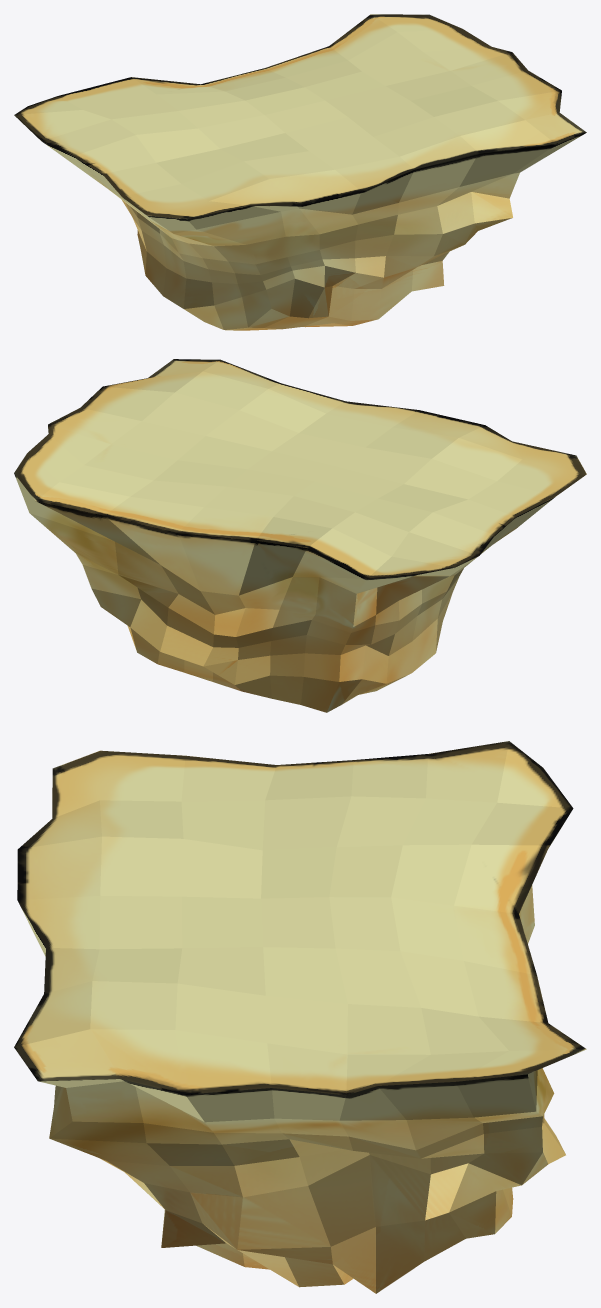
The model's file is base_flotante.fbx.
3 renders of one model, top to bottom at view 1: azimuth 30°, elevation 25°; view 2: azimuth 150°, elevation 25°; view 3: azimuth 270°, elevation 25°, orthographic. The views are drawn at different scales.
Parts seen in each view (by area): view 1: base_flotante1; view 2: base_flotante1; view 3: base_flotante1.
Part boxes in pixels (bbox=[...]): base_flotante1: bbox=[14, 14, 586, 330]; base_flotante1: bbox=[14, 359, 586, 712]; base_flotante1: bbox=[14, 741, 586, 1293].
Bounding box in the file's own units: 239 × 111 × 170.
